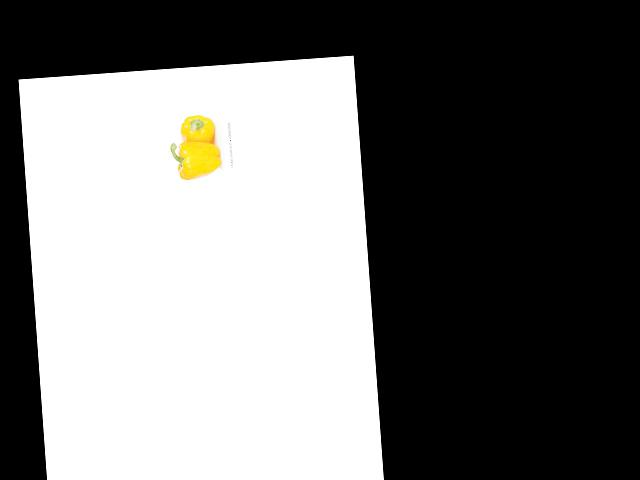bell_pepper: (177, 113, 217, 147)
